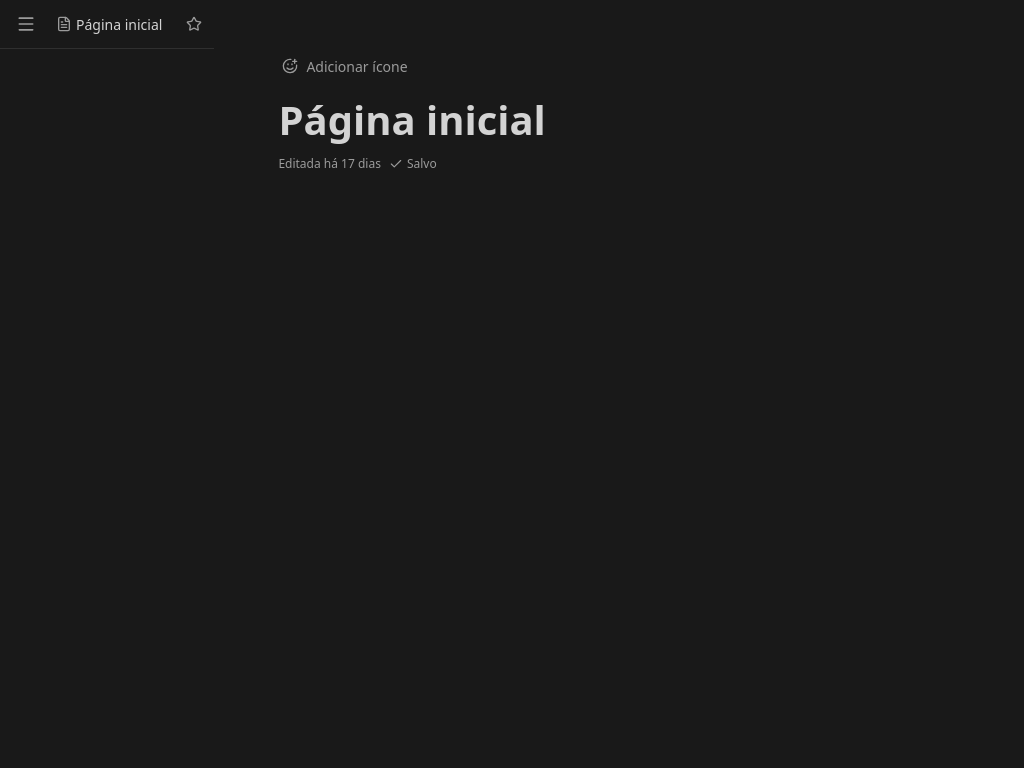
layout (mobile) › closes the drawer after choosing a link
Click the button named "Abrir menu" at coordinates (26, 24), box x1=4 y1=2 x2=48 y2=46
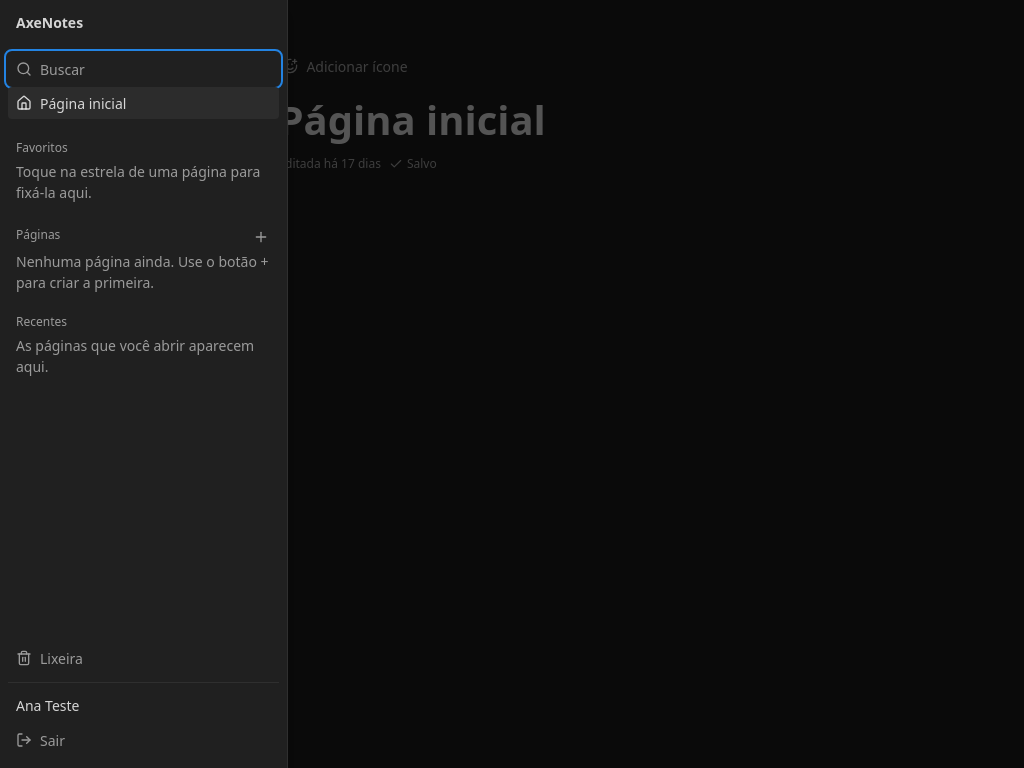
Click the link "Página inicial" at coordinates (83, 103), box x1=8 y1=87 x2=279 y2=119
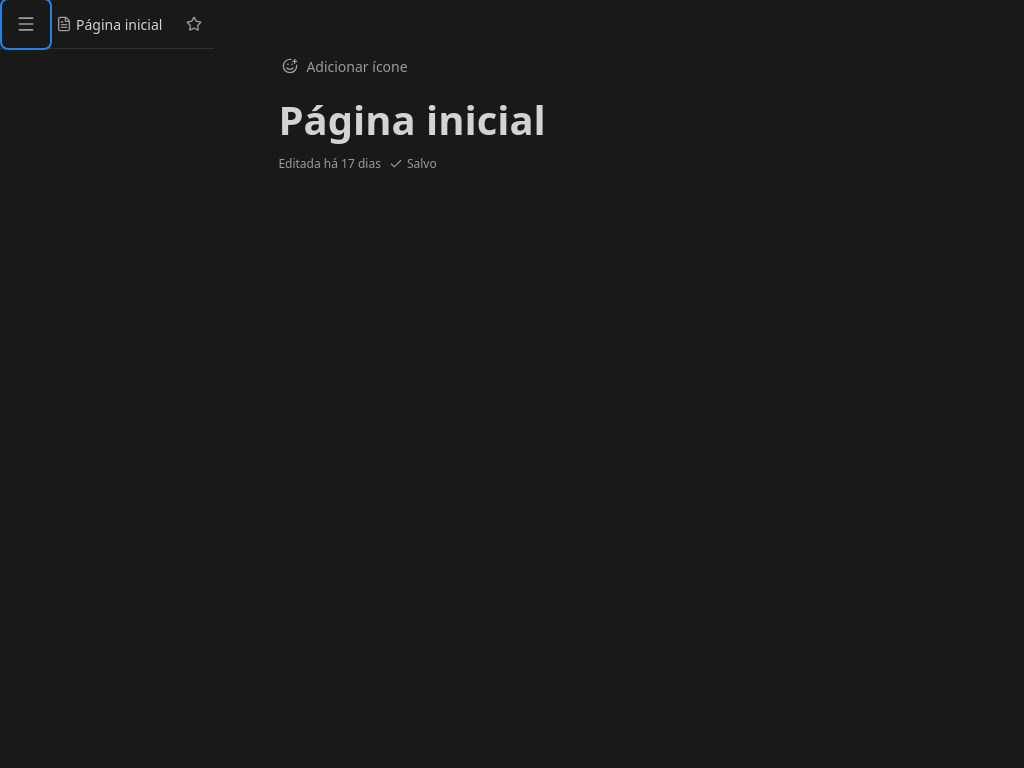
Result: the dialog is gone
